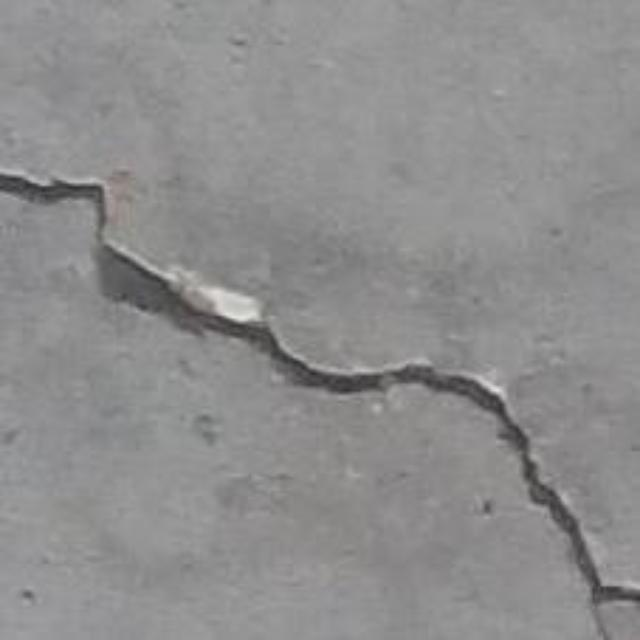crack: (0, 172, 639, 614)
